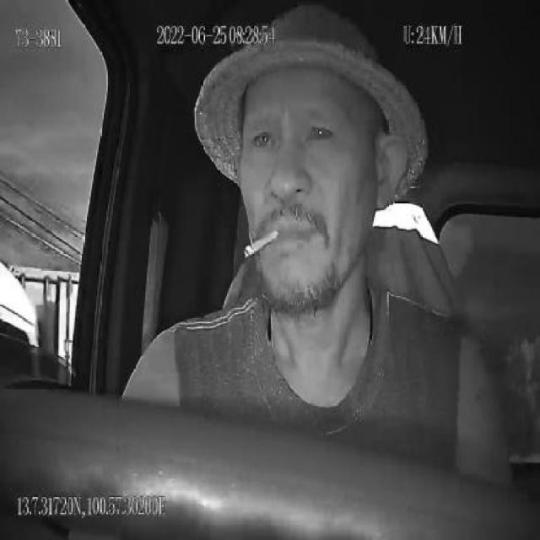smoking: (242, 228, 279, 260)
